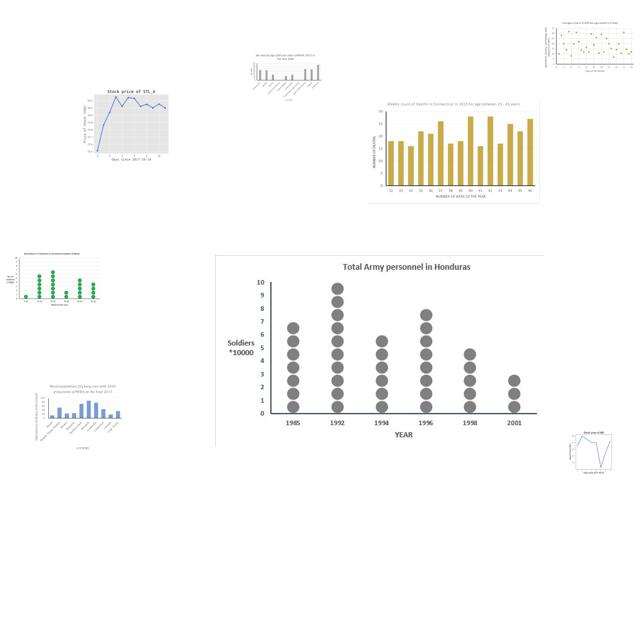Graph: (215, 255, 544, 447), (368, 99, 540, 204), (79, 85, 181, 162), (33, 383, 123, 450), (4, 251, 102, 308), (543, 20, 637, 75), (248, 52, 322, 102), (560, 429, 626, 474)
